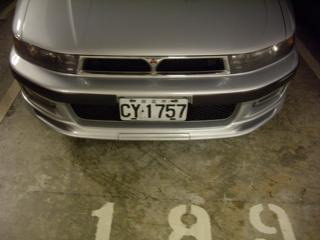plate: (117, 94, 190, 123)
